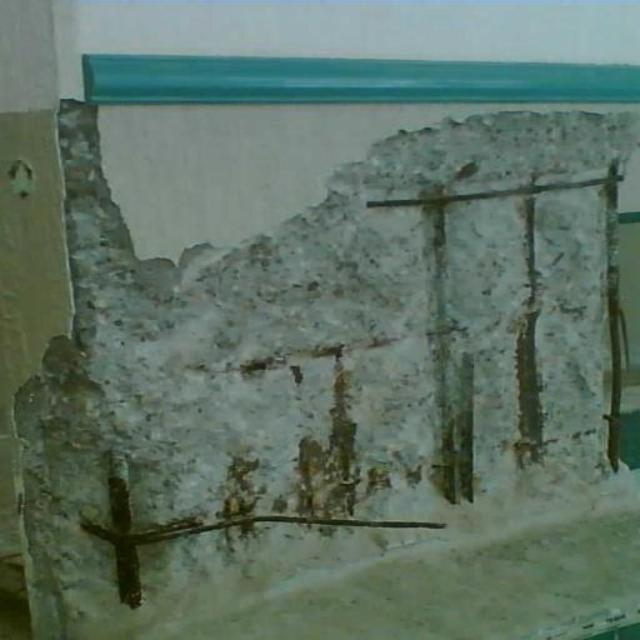D0w0: (62, 102, 633, 637)
